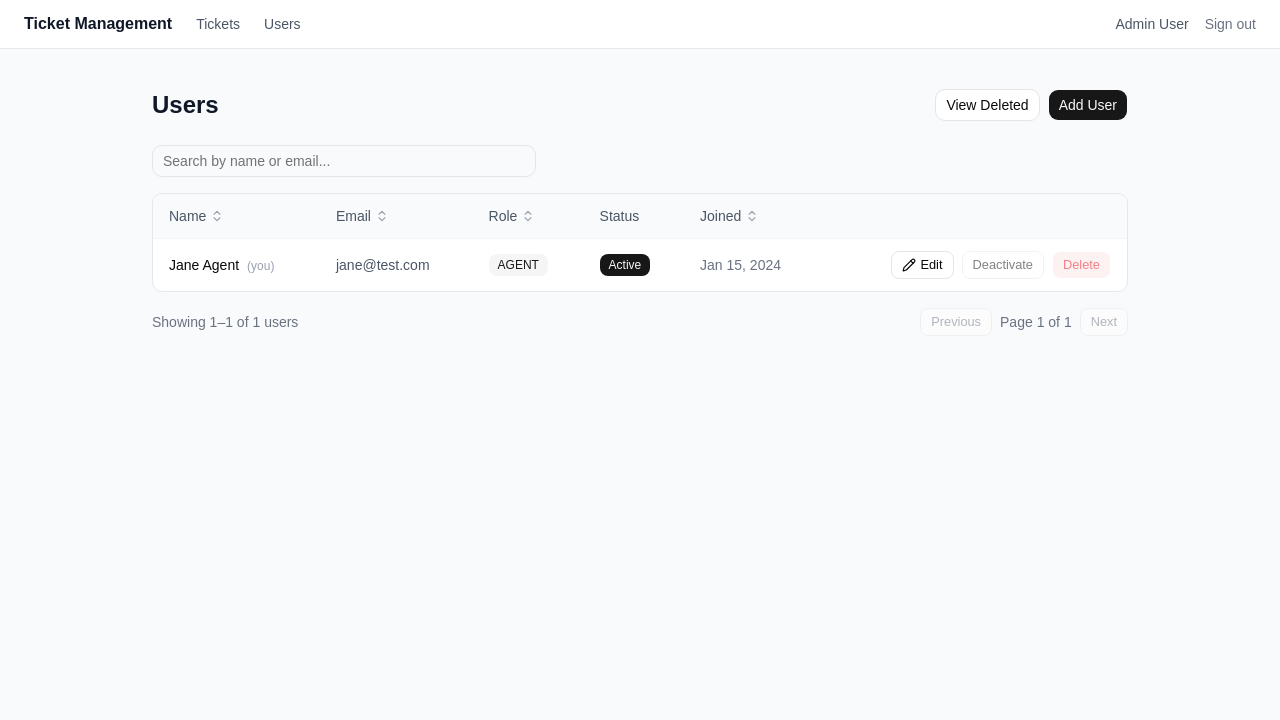
UsersPage › Edit User dialog › disables the role select when editing yourself
Check: the text "(you)" is shown, box x1=247 y1=259 x2=274 y2=273
Step 1. Click the button "Edit" → (923, 265), box x1=892 y1=251 x2=954 y2=279
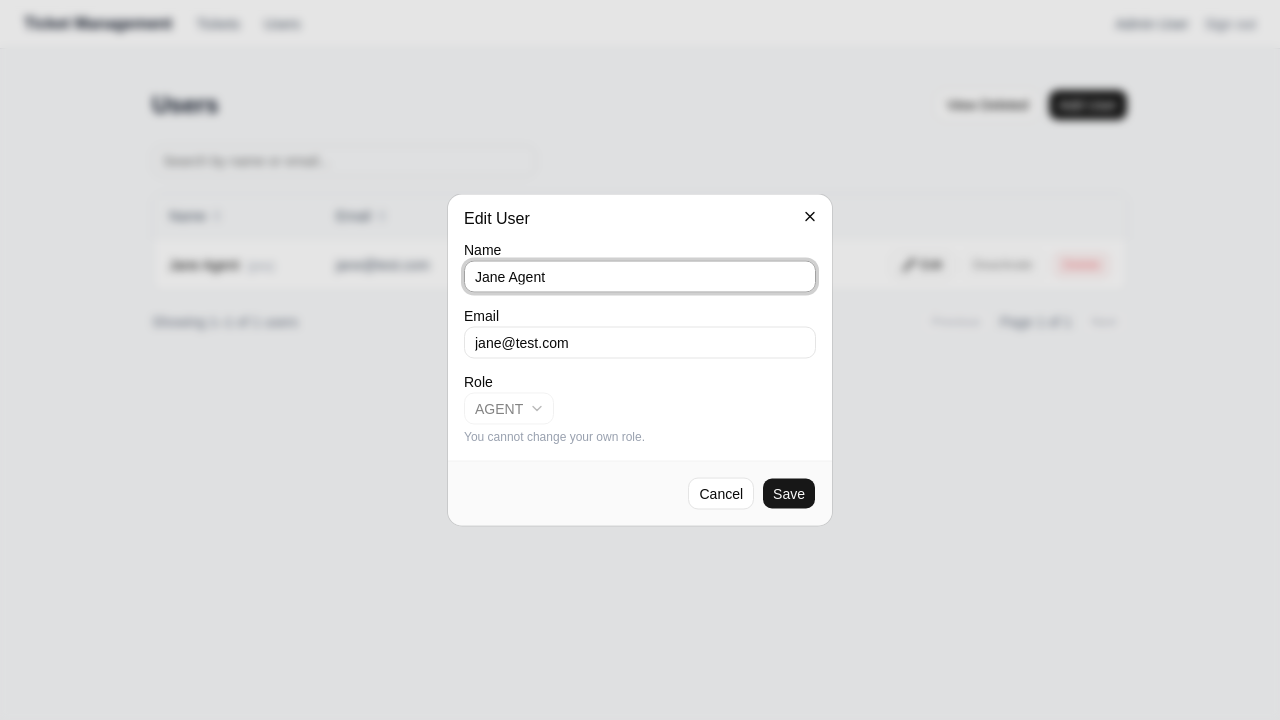
Check: the heading "Edit User" is shown, box x1=464 y1=210 x2=530 y2=226
Check: the dropdown is disabled, box x1=464 y1=392 x2=554 y2=424
